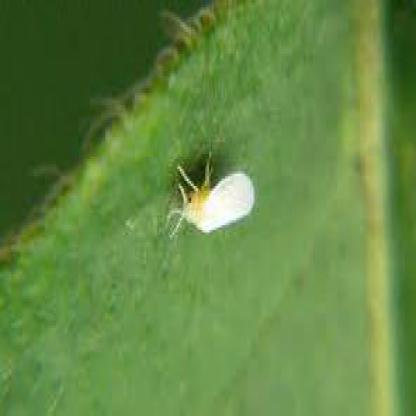whitefly: (178, 159, 257, 236)
